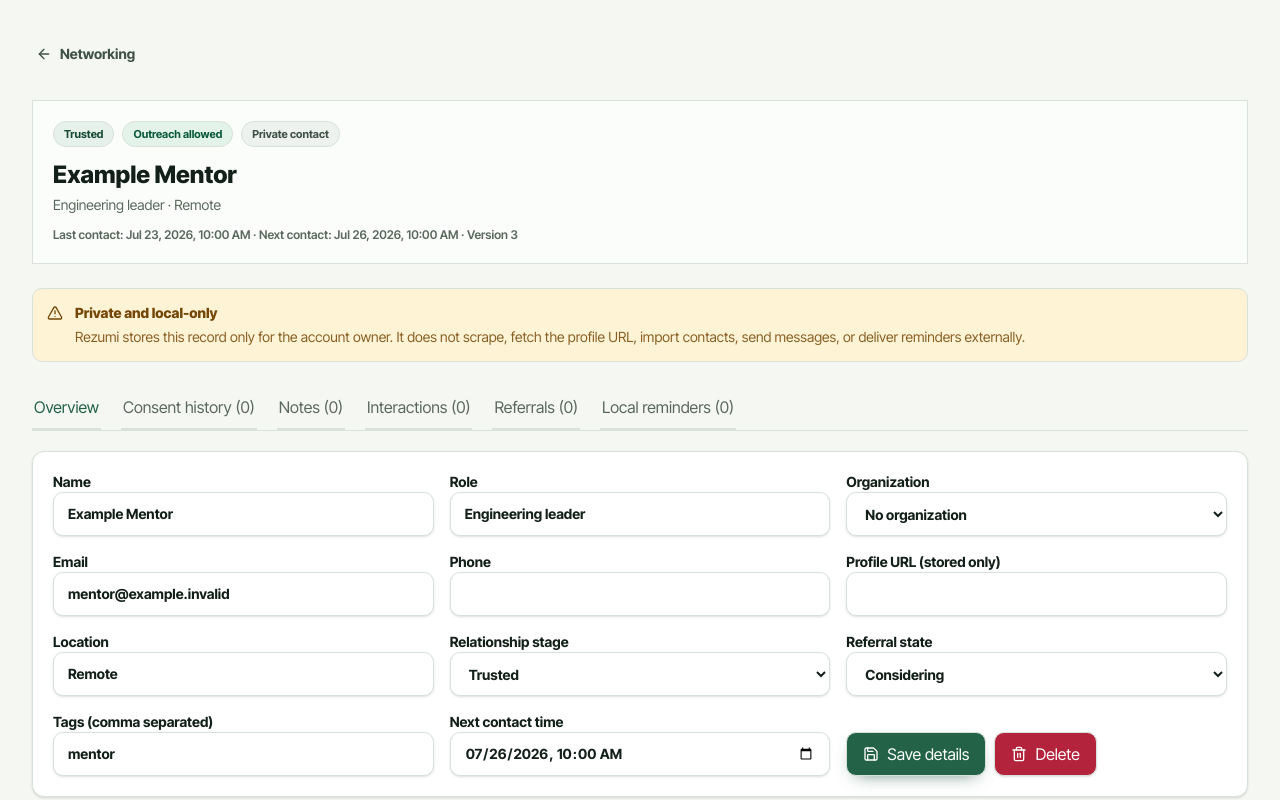
it: private contact detail › shows honest local dead-letter state and redacted failure code without delivery controls
Expected: the heading "Example Mentor" is shown, [53, 160, 237, 189]
What coordinates should you click on to do the following:
click the tab "Local reminders (0)"
I would click on:
 (668, 408)
Its box is [600, 386, 736, 430].
(page scrolled)
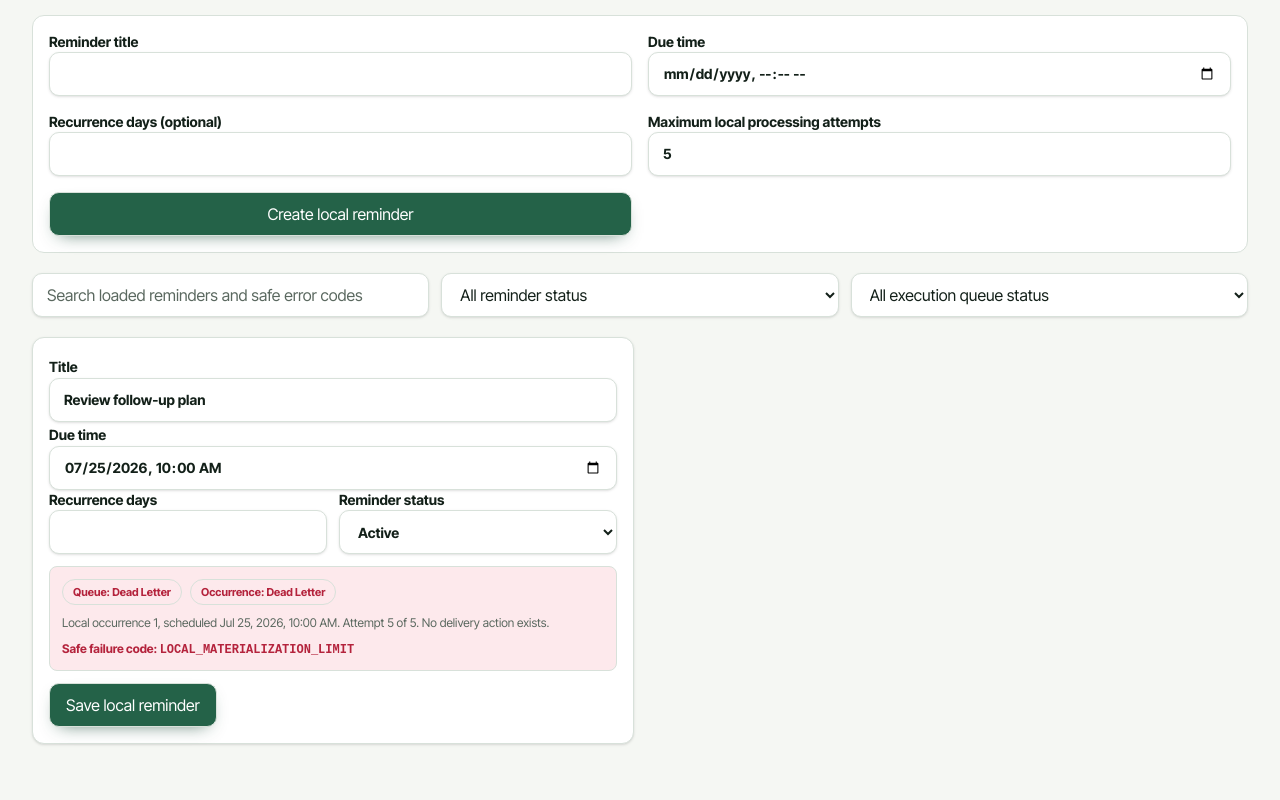
Now the text "Queue: Dead Letter" is shown, box [62, 579, 182, 605]
Now the text "Safe failure code:" is shown, box [62, 641, 157, 656]
Now the text "LOCAL_MATERIALIZATION_LIMIT" is shown, box [160, 643, 354, 657]
